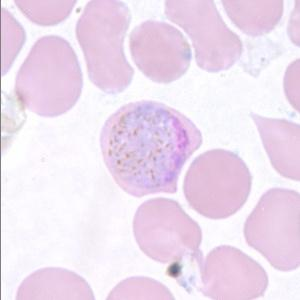Infected: (100, 100, 203, 198)
Uninfected: (162, 0, 242, 74), (14, 36, 82, 117), (76, 0, 134, 94), (184, 150, 251, 221), (244, 187, 300, 271), (132, 197, 202, 262), (128, 19, 194, 82), (201, 244, 269, 300), (250, 111, 300, 181), (223, 0, 284, 37)
